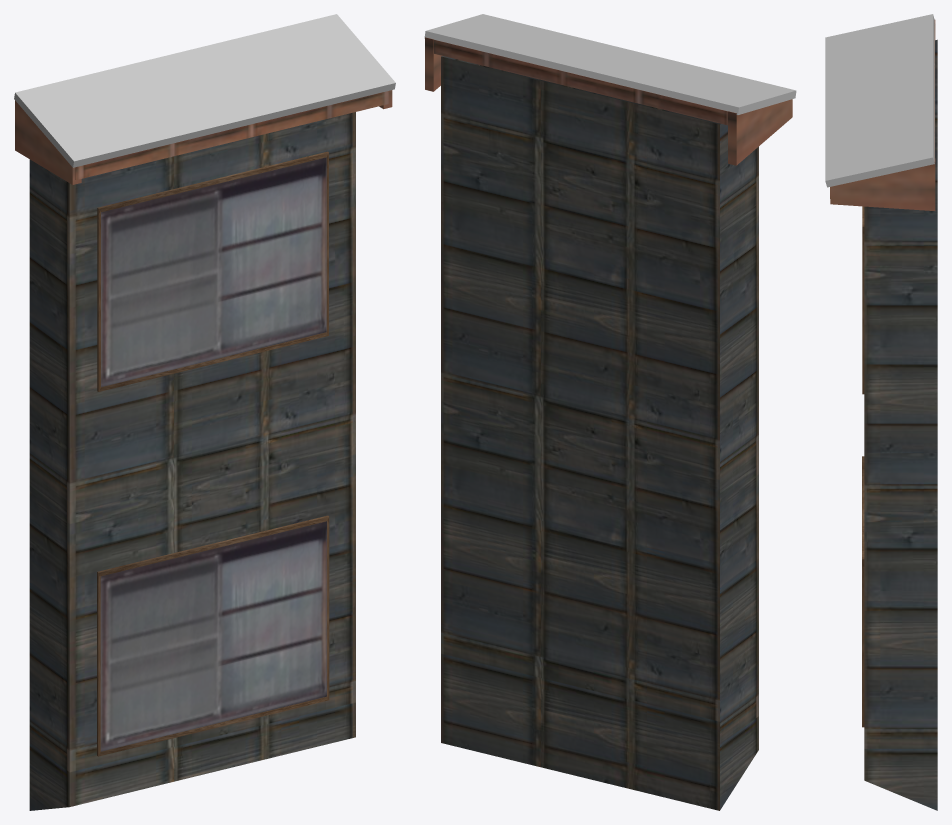
File: ms_h01k_side_1.fbx
3 renders of one model, left to right at view 1: azimuth 30°, elevation 25°; view 2: azimuth 150°, elevation 25°; view 3: azimuth 270°, elevation 25°, orthographic. The views are drawn at different scales.
Visible parts, largest first — view 1: ms_h01k_side_1; view 2: ms_h01k_side_1; view 3: ms_h01k_side_1.
Part boxes in pixels (x1,y1,x2,y2): ms_h01k_side_1: [14, 14, 395, 810]; ms_h01k_side_1: [424, 14, 796, 810]; ms_h01k_side_1: [825, 14, 937, 810].
Bounding box in the file's own units: 211 × 453 × 69.74.
